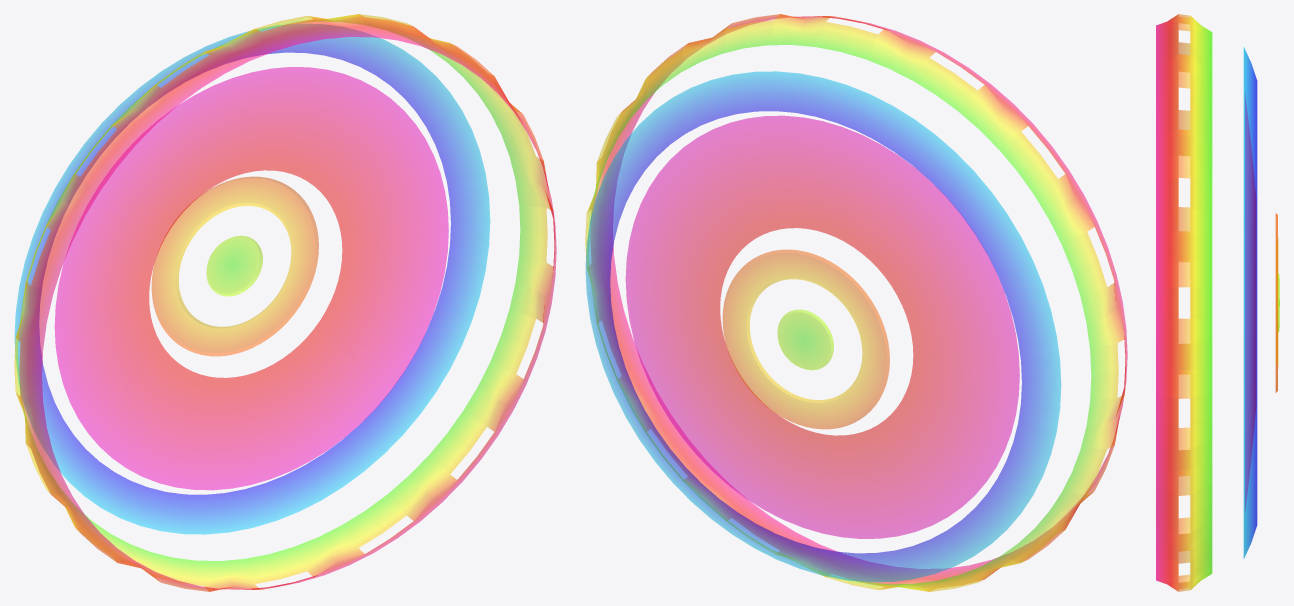
Rendered from xenogothika-sun-neon.glb.
3 views of the same model, side by side, from view 1: azimuth 30°, elevation 25°; view 2: azimuth 150°, elevation 25°; view 3: azimuth 270°, elevation 25° (orthographic). The views are drawn at different scales.
Parts seen in each view (by area): view 1: DarkSun-Neon; view 2: DarkSun-Neon; view 3: DarkSun-Neon.
Part boxes in pixels (x1,y1,x2,y2): DarkSun-Neon: (14, 14, 556, 591); DarkSun-Neon: (585, 14, 1127, 591); DarkSun-Neon: (1156, 14, 1279, 591).
Bounding box in the file's own units: 44.8 × 44.8 × 9.58.
1 material, 1 textured.
